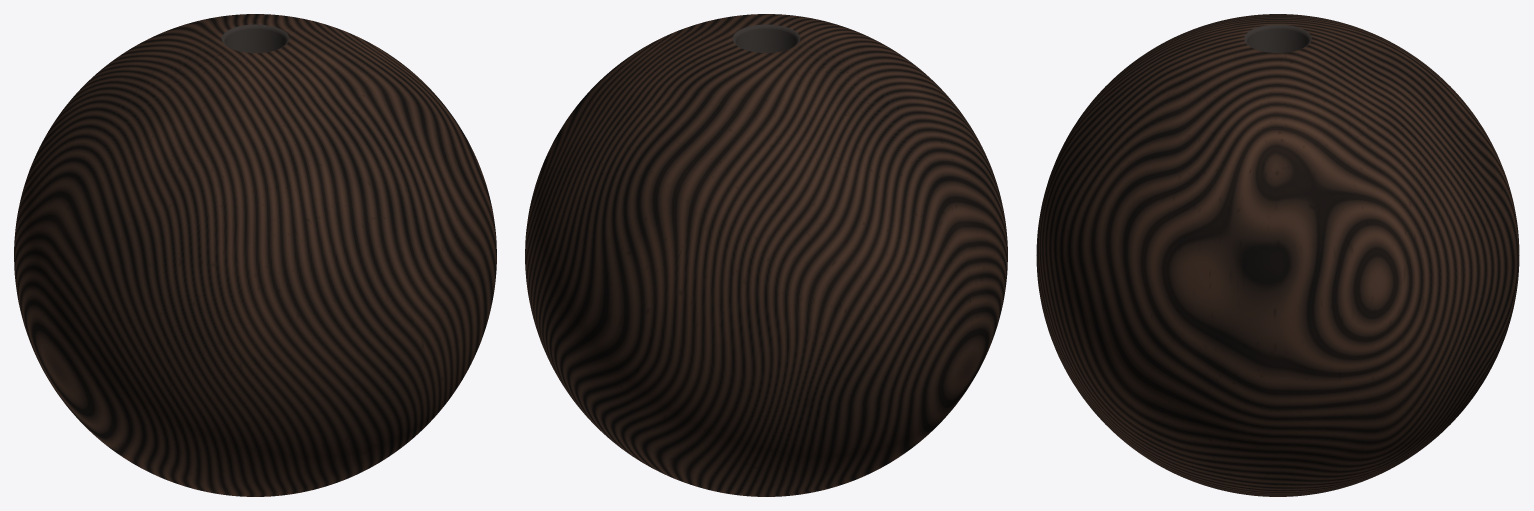
Rendered from ebony-8mm.glb.
The picture shows the model from 3 angles, left to right: view 1: azimuth 30°, elevation 25°; view 2: azimuth 150°, elevation 25°; view 3: azimuth 270°, elevation 25°; orthographic projection.
Visible parts, largest first — view 1: ebony; view 2: ebony; view 3: ebony.
Part boxes in pixels (x1=…): ebony: x1=14, y1=14, x2=496, y2=496; ebony: x1=525, y1=14, x2=1007, y2=496; ebony: x1=1036, y1=14, x2=1519, y2=496.
Size of the model in its own units: 0.008 by 0.00792 by 0.008.
Materials: 2 (1 with a texture image).
